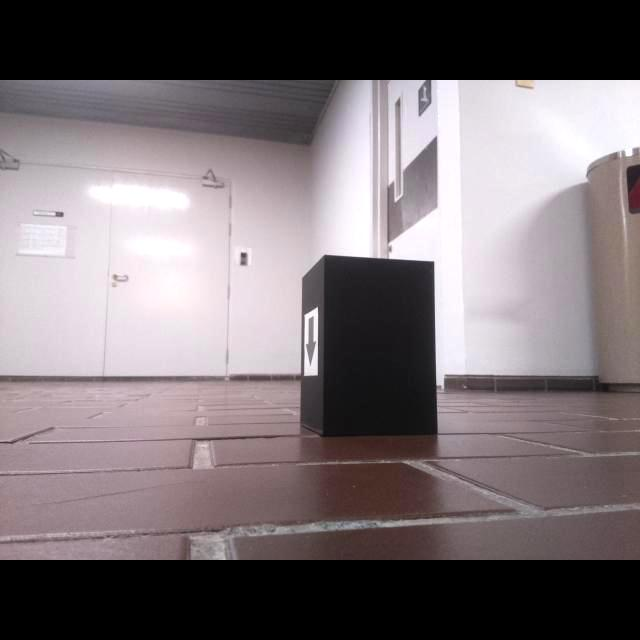DOWN: (305, 315, 317, 368)
